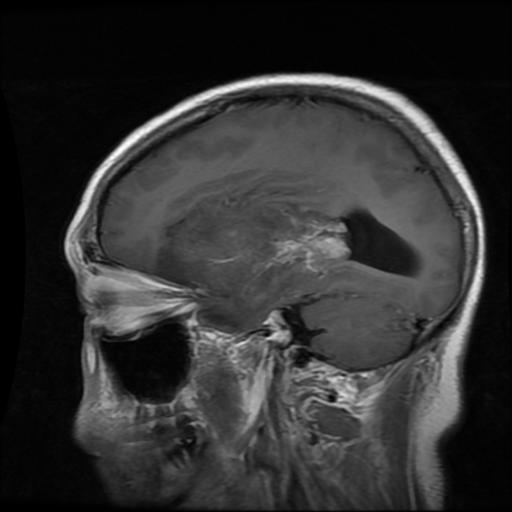Gliomia_tumour: (157, 169, 348, 332)
